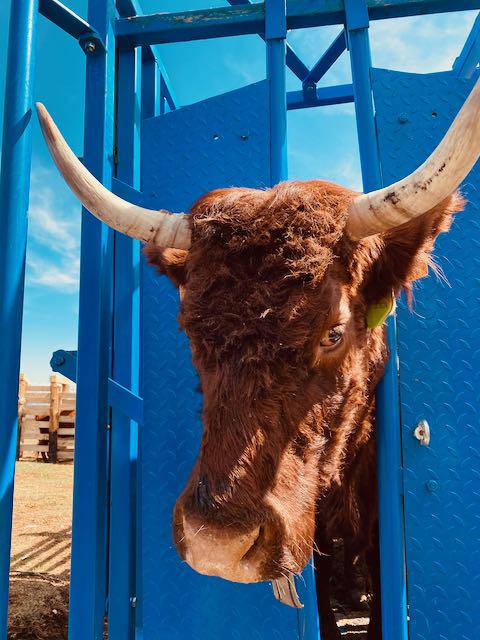muzzles: (160, 503, 293, 590)
